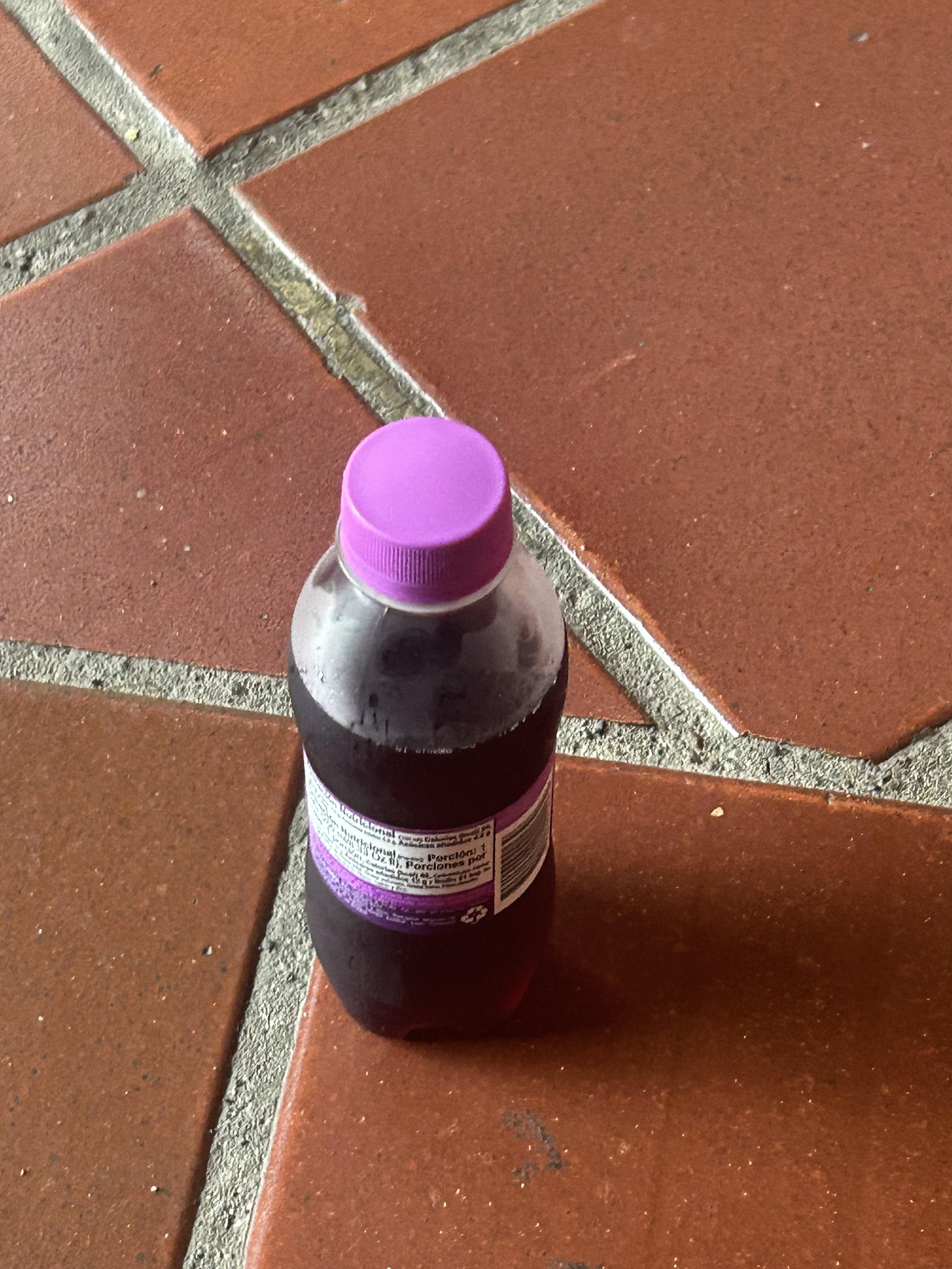uva: (289, 417, 568, 1037)
